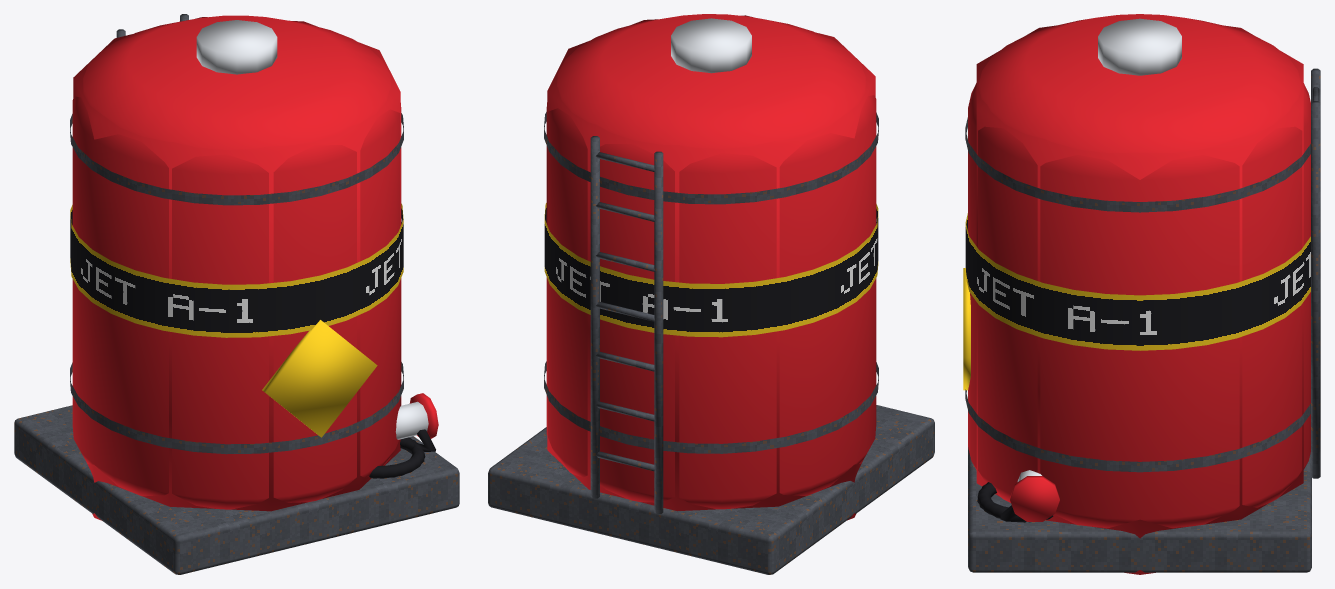
The model's file is p_fueltank.glb.
3 views of the same model, side by side, from view 1: azimuth 30°, elevation 25°; view 2: azimuth 150°, elevation 25°; view 3: azimuth 270°, elevation 25° (orthographic). The views are drawn at different scales.
Visible parts, largest first — view 1: ft_hp_red, ft_hp_steel, ft_hp_band, lod1_mesh, ft_hp_yellow, ft_hp_chrome, ft_hp_black; view 2: ft_hp_red, ft_hp_steel, ft_hp_band, lod1_mesh, ft_hp_chrome; view 3: ft_hp_red, ft_hp_steel, ft_hp_band, lod1_mesh, ft_hp_chrome, ft_hp_yellow, ft_hp_black.
Part boxes in pixels (x1,y1,x2,y2): ft_hp_red: [72, 15, 438, 509]; ft_hp_steel: [14, 14, 459, 574]; ft_hp_band: [70, 203, 403, 337]; lod1_mesh: [73, 17, 400, 520]; ft_hp_yellow: [262, 320, 377, 437]; ft_hp_chrome: [196, 20, 428, 439]; ft_hp_black: [369, 429, 435, 478]; ft_hp_red: [546, 14, 876, 509]; ft_hp_steel: [488, 112, 934, 574]; ft_hp_band: [544, 203, 878, 337]; lod1_mesh: [547, 15, 875, 520]; ft_hp_chrome: [671, 18, 751, 73]; ft_hp_red: [968, 14, 1310, 528]; ft_hp_steel: [965, 68, 1320, 572]; ft_hp_band: [965, 213, 1310, 350]; lod1_mesh: [976, 25, 1303, 574]; ft_hp_chrome: [1017, 18, 1181, 481]; ft_hp_yellow: [963, 268, 970, 390]; ft_hp_black: [977, 482, 1053, 522].
Size of the model in its own units: 1.83 by 2.69 by 1.87.
Materials: 6 (2 with a texture image).
